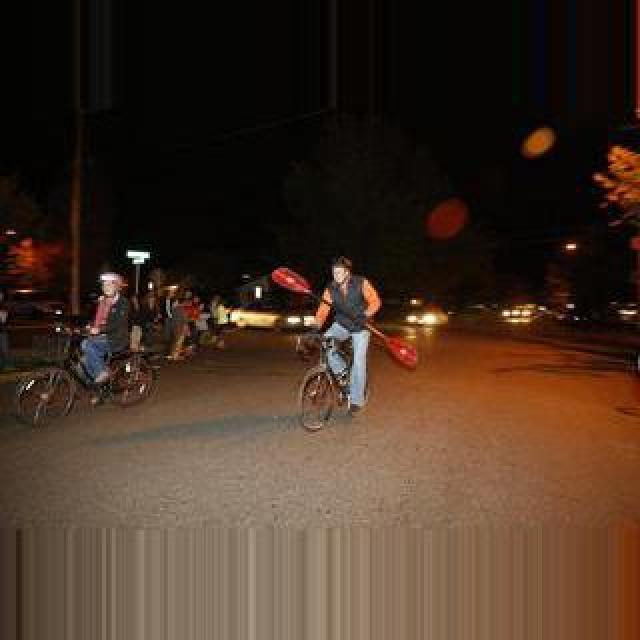MC-Bike: (312, 254, 384, 416), (82, 270, 132, 392)
Person: (13, 326, 155, 426), (297, 332, 373, 432)
